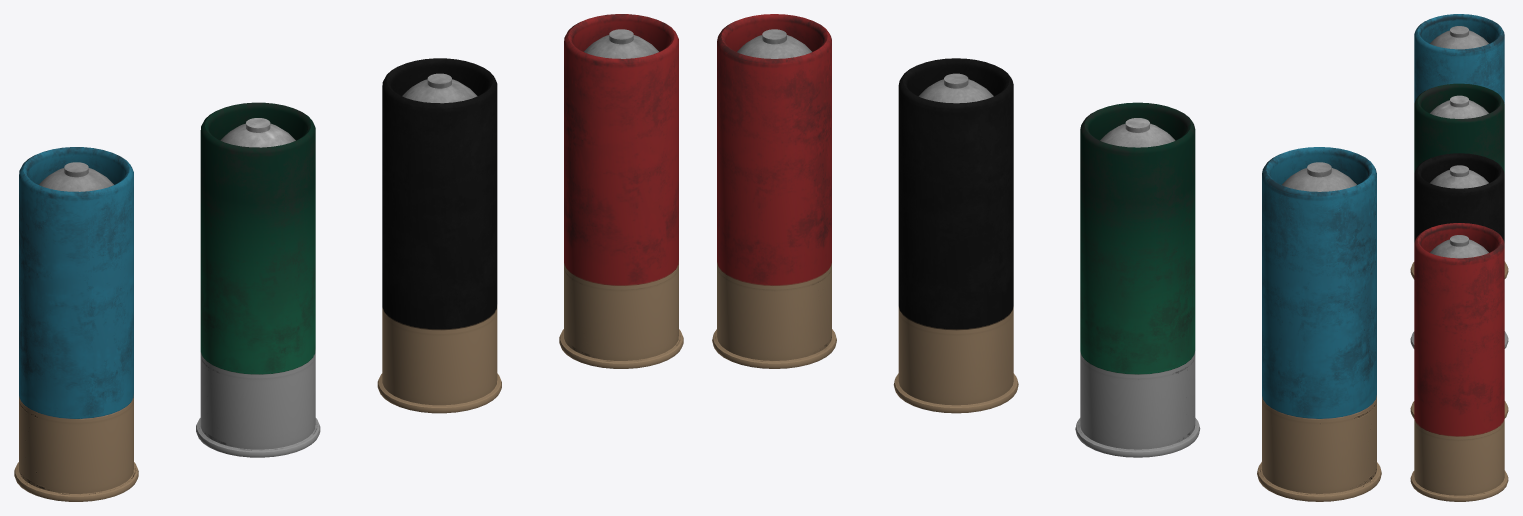
3 views of the same model, side by side, from view 1: azimuth 30°, elevation 25°; view 2: azimuth 150°, elevation 25°; view 3: azimuth 270°, elevation 25° (orthographic). The views are drawn at different scales.
Parts seen in each view (by area): view 1: Bullets010_Hunt_Bullet_0, Bullets009_Wild_Bullet_0, Bullets011_Police_Bullet_0, Bullets008_Snow_Bullet_0; view 2: Bullets009_Wild_Bullet_0, Bullets010_Hunt_Bullet_0, Bullets011_Police_Bullet_0, Bullets008_Snow_Bullet_0; view 3: Bullets011_Police_Bullet_0, Bullets010_Hunt_Bullet_0, Bullets009_Wild_Bullet_0, Bullets008_Snow_Bullet_0.
Part boxes in pixels (<box>): Bullets010_Hunt_Bullet_0: <box>377,58,501,413</box>; Bullets009_Wild_Bullet_0: <box>196,102,320,457</box>; Bullets011_Police_Bullet_0: <box>559,14,683,368</box>; Bullets008_Snow_Bullet_0: <box>14,147,138,501</box>; Bullets009_Wild_Bullet_0: <box>1075,102,1200,457</box>; Bullets010_Hunt_Bullet_0: <box>893,58,1018,413</box>; Bullets011_Police_Bullet_0: <box>712,14,836,368</box>; Bullets008_Snow_Bullet_0: <box>1257,147,1381,501</box>; Bullets011_Police_Bullet_0: <box>1410,223,1508,501</box>; Bullets010_Hunt_Bullet_0: <box>1410,153,1508,418</box>; Bullets009_Wild_Bullet_0: <box>1410,83,1508,348</box>; Bullets008_Snow_Bullet_0: <box>1410,14,1508,279</box>.
Bounding box in the file's own units: 0.1801 × 0.0816 × 0.0298.
Materials: 4 (4 with a texture image).
